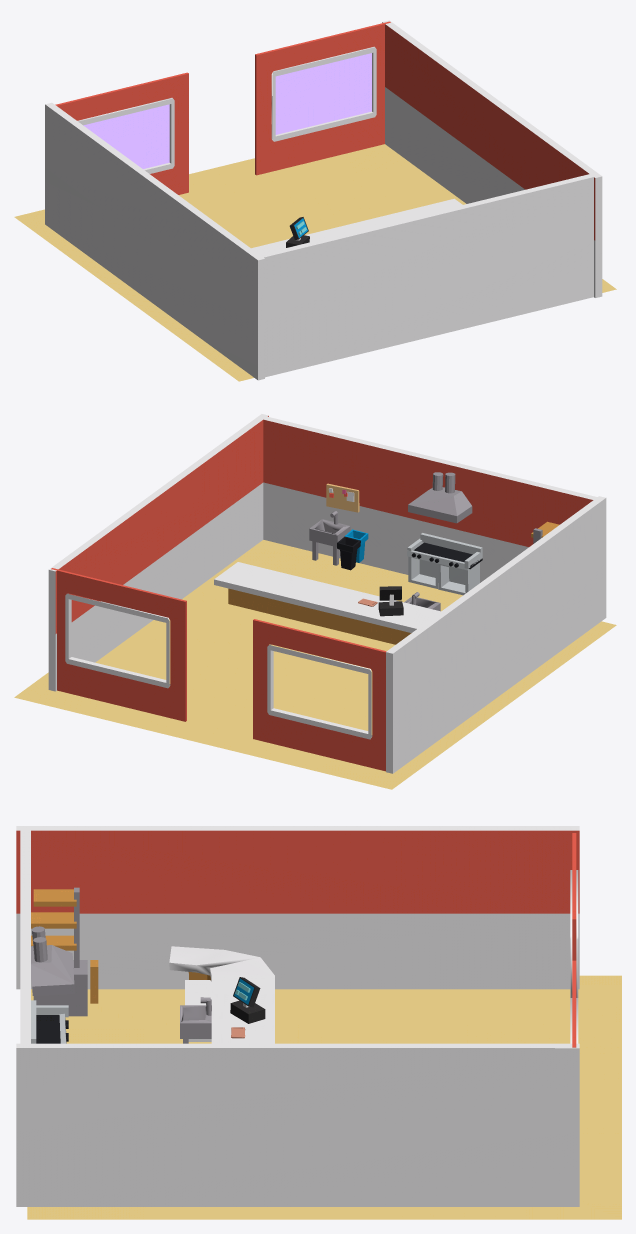
The model's file is restraunt.glb.
The picture shows the model from 3 angles, top to bottom: view 1: azimuth 30°, elevation 25°; view 2: azimuth 150°, elevation 25°; view 3: azimuth 270°, elevation 25°; orthographic projection. The views are drawn at different scales.
Parts seen in each view (by area): view 1: restraunt.001; view 2: restraunt.001; view 3: restraunt.001.
Boxes of the visible parts, left/top/right/bottom form: restraunt.001: left=14, top=20, right=616, bottom=381; restraunt.001: left=14, top=414, right=616, bottom=789; restraunt.001: left=16, top=826, right=621, bottom=1219.
Bounding box in the file's own units: 26 × 8 × 27.41.
Materials: 1 (1 with a texture image).
